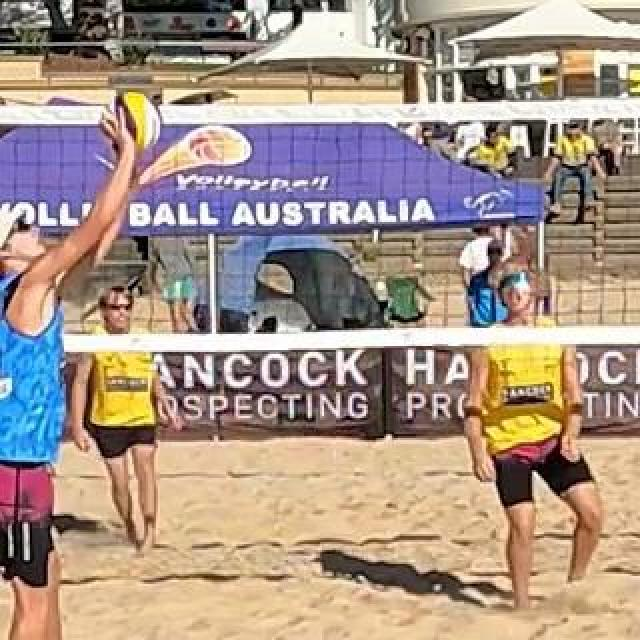volleyball: (99, 90, 161, 152)
